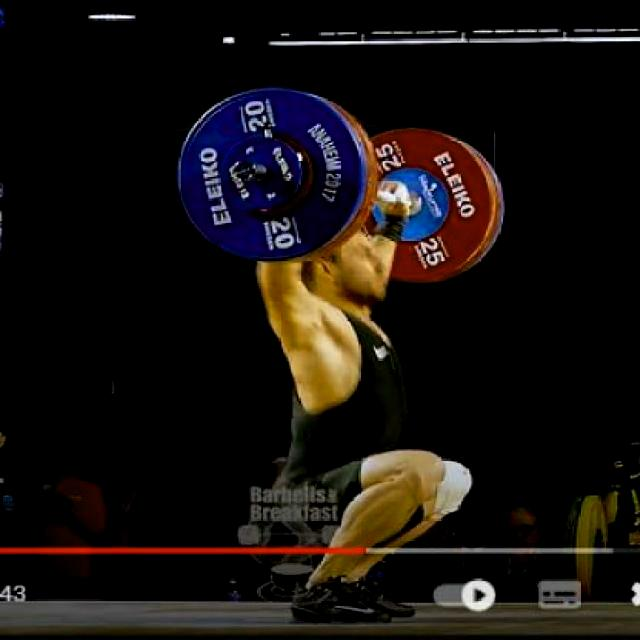barbell: (163, 73, 392, 286)
